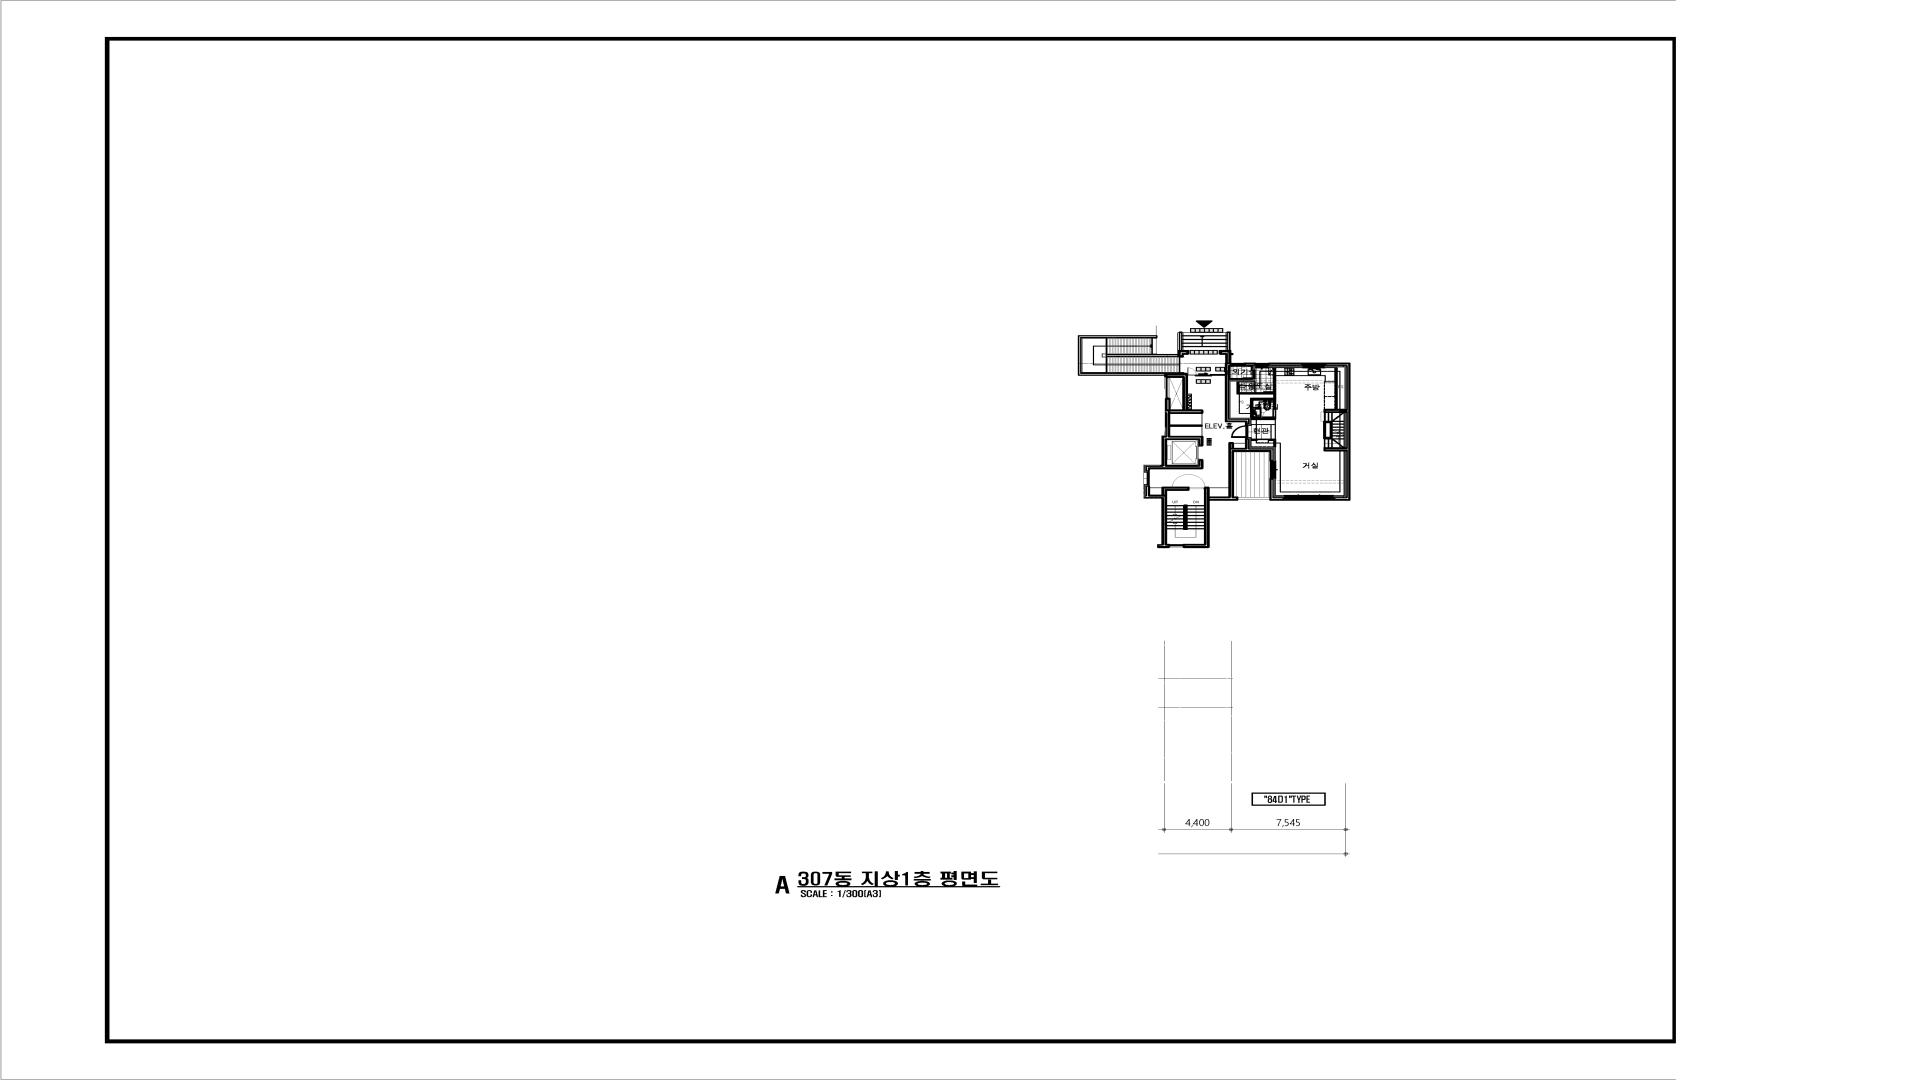door: (1172, 475, 1205, 487), (1230, 426, 1251, 438), (1262, 407, 1276, 418), (1263, 384, 1276, 392), (1242, 371, 1255, 378), (1196, 375, 1225, 377), (1188, 368, 1196, 376)
wall: (1077, 335, 1204, 472), (1183, 438, 1276, 549), (1324, 363, 1350, 501), (1218, 331, 1255, 426), (1143, 485, 1189, 549), (1105, 331, 1189, 357), (1236, 382, 1276, 421), (1270, 479, 1284, 501), (1269, 363, 1303, 368), (1335, 368, 1337, 409), (1244, 363, 1255, 371), (1171, 425, 1203, 427), (1273, 368, 1276, 384), (1269, 439, 1276, 447), (1251, 439, 1258, 440)
window: (1284, 495, 1333, 501), (1270, 462, 1276, 479), (1303, 363, 1324, 368), (1164, 378, 1170, 398), (1143, 472, 1150, 485), (1238, 497, 1269, 500), (1255, 363, 1267, 368), (1232, 363, 1244, 367), (1171, 545, 1183, 547)
